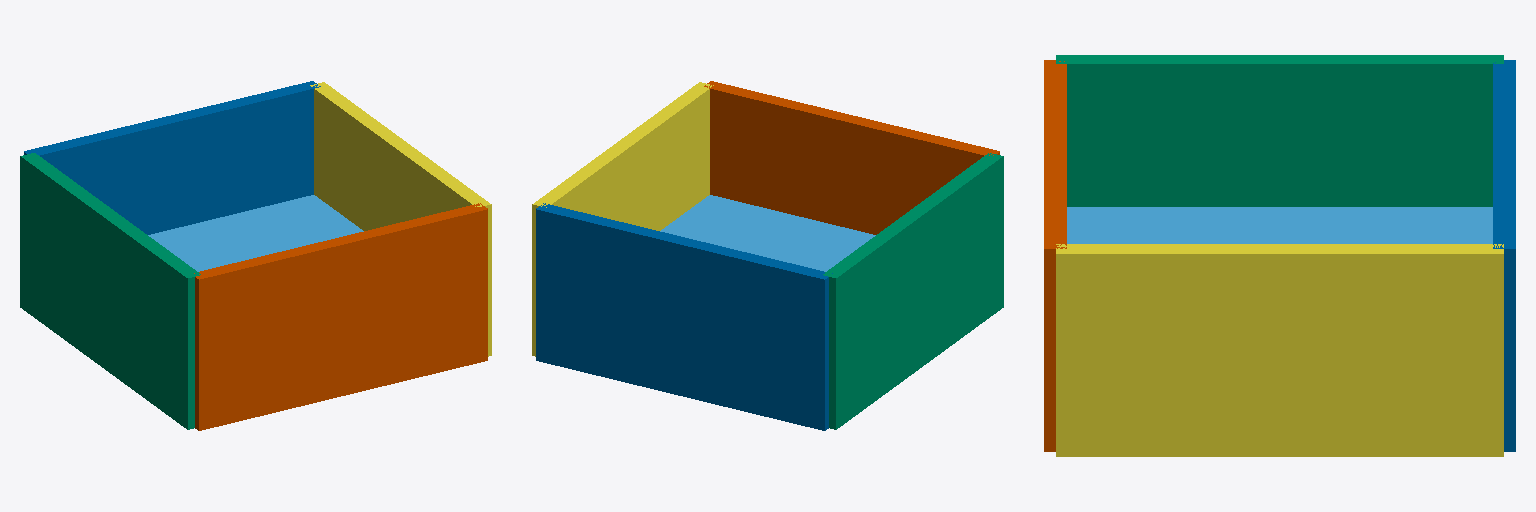
The robot description file, URDF, robot "container":
<?xml version='1.0'?>
<robot name ='container'>

<link name="world"/>

<joint name = "joint_fix" type = "fixed">
  <parent link="world"/>
  <child link = "bottom"/>
</joint>


<link name ="bottom"> <!--2-->
  <collision>
    <origin xyz="0 0 0" rpy="0 0 0"/>
    <geometry>
      <box size="0.4 0.4 0.02"/> <!--3-->
    </geometry>
  </collision>

  <visual>
    <origin xyz="0 0 0" rpy="0 0 0"/>
    <geometry>
      <box size="0.4 0.4 0.02"/>
    </geometry>
  </visual>

  <inertial>
    <origin xyz="0 0 0" rpy="0 0 0" />
    <mass value="0.05" />
    <inertia
      ixx="0.001" ixy="0.0"  ixz="0.0"
      iyy="0.001" iyz="0.0"
      izz="0.001" />
  </inertial>
</link>

<joint name = "left_wall" type = "fixed">
  <parent link="bottom"/>
  <child link = "left"/>
</joint>


<link name = "left">
  <collision> <!--4-->
    <origin xyz="-0.2 0 0.05" rpy="0 0 0"/>
    <geometry>
      <box size="0.02 0.4 0.2"/>
    </geometry>
  </collision>

  <visual>
    <origin xyz="-0.2 0 0.05" rpy="0 0 0"/>
    <geometry>
      <box size="0.02 0.4 0.2"/>
    </geometry>
  </visual>

  <inertial>
    <origin xyz="-0.2 0 0.05" rpy="0 0 0" />
    <mass value="0.05" />
    <inertia
      ixx="0.001" ixy="0.0"  ixz="0.0"
      iyy="0.001" iyz="0.0"
      izz="0.001" />
  </inertial>
</link>

<joint name = "right_wall" type = "fixed">
  <parent link="bottom"/>
  <child link = "right"/>
</joint>

<link name="right">
  <collision>
    <origin xyz="0.2 0 0.05" rpy="0 0 0"/>
    <geometry>
      <box size="0.02 0.4 0.2"/>
    </geometry>
  </collision>

  <visual>
    <origin xyz="0.2 0 0.05" rpy="0 0 0"/>
    <geometry>
      <box size="0.02 0.4 0.2"/>
    </geometry>
  </visual>

  <inertial>
    <origin xyz="0.2 0 0.05" rpy="0 0 0" />
    <mass value="0.05" />
    <inertia
      ixx="0.001" ixy="0.0"  ixz="0.0"
      iyy="0.001" iyz="0.0"
      izz="0.001" />
  </inertial>
</link>

<joint name = "back_wall" type = "fixed">
  <parent link="bottom"/>
  <child link = "back"/>
</joint>

<link name="back">
  <collision>
    <origin xyz="0 0.2 0.05" rpy="0 0 0"/>
    <geometry>
      <box size="0.4 0.02 0.2"/>
    </geometry>
  </collision>

  <visual>
    <origin xyz="0 0.2 0.05" rpy="0 0 0"/>
    <geometry>
      <box size="0.4 0.02 0.2"/>
    </geometry>
  </visual>

  <inertial>
    <origin xyz="0 0.2 0.05" rpy="0 0 0" />
    <mass value="0.05" />
    <inertia
      ixx="0.001" ixy="0.0"  ixz="0.0"
      iyy="0.001" iyz="0.0"
      izz="0.001" />
  </inertial>
</link>

<joint name = "front_wall" type = "fixed">
  <parent link="bottom"/>
  <child link = "front"/>
</joint>

<link name="front">
  <collision>
    <origin xyz="0 -0.2 0.05" rpy= "0 0 0"/>
    <geometry>
      <box size="0.4 0.02 0.2"/>
    </geometry>
  </collision>

  <visual>
    <origin xyz="0 -0.2 0.05" rpy="0 0 0"/>
    <geometry>
      <box size="0.4 0.02 0.2"/>
    </geometry>
  </visual>

  <inertial>
    <origin xyz="0 -0.2 0.05" rpy="0 0 0"/>
    <mass value="0.05" />
    <inertia
      ixx="0.001" ixy="0.0"  ixz="0.0"
      iyy="0.001" iyz="0.0"
      izz="0.001" />
  </inertial>
</link>

<gazebo reference="bottom">
  <mu1>10</mu1>
  <mu2>10</mu2>
  <material>Gazebo/Indigo</material>
</gazebo>

<gazebo reference="right">
  <mu1>10</mu1>
  <mu2>10</mu2>
  <material>Gazebo/Indigo</material>
</gazebo>

<gazebo reference="left">
  <mu1>10</mu1>
  <mu2>10</mu2>
  <material>Gazebo/Indigo</material>
</gazebo>

<gazebo reference="back">
  <mu1>10</mu1>
  <mu2>10</mu2>
  <material>Gazebo/Indigo</material>
</gazebo>

<gazebo reference="front">
  <mu1>10</mu1>
  <mu2>10</mu2>
  <material>Gazebo/Indigo</material>
</gazebo>

<gazebo>
	<static>true</static>
</gazebo>

</robot>

--- Facts derived from the render (not from the file) ---
Views: 3 orthographic renders of the robot side by side, from view 1: azimuth 30°, elevation 25°; view 2: azimuth 150°, elevation 25°; view 3: azimuth 270°, elevation 25°.
Robot: container — 6 links, 5 joints (5 fixed); root link world; default pose: every joint at zero.
Links seen in each view (by area): view 1: front, left, back, right, bottom; view 2: back, left, front, right, bottom; view 3: right, left, bottom, back, front.
Boxes of the visible links, x1,y1,x2,y2 form: front: [194, 203, 487, 430]; left: [20, 153, 200, 429]; back: [24, 81, 320, 234]; right: [310, 82, 491, 356]; bottom: [148, 195, 363, 271]; back: [536, 203, 832, 430]; left: [823, 153, 1003, 429]; front: [704, 81, 999, 234]; right: [532, 82, 713, 356]; bottom: [660, 195, 875, 271]; right: [1056, 244, 1503, 456]; left: [1056, 55, 1503, 206]; bottom: [1067, 207, 1492, 243]; back: [1493, 60, 1515, 451]; front: [1044, 60, 1066, 451].
Size in the robot's own frame: 0.42 by 0.42 by 0.2 metres.
Geometry: primitives only (box / cylinder / sphere), no mesh files.
